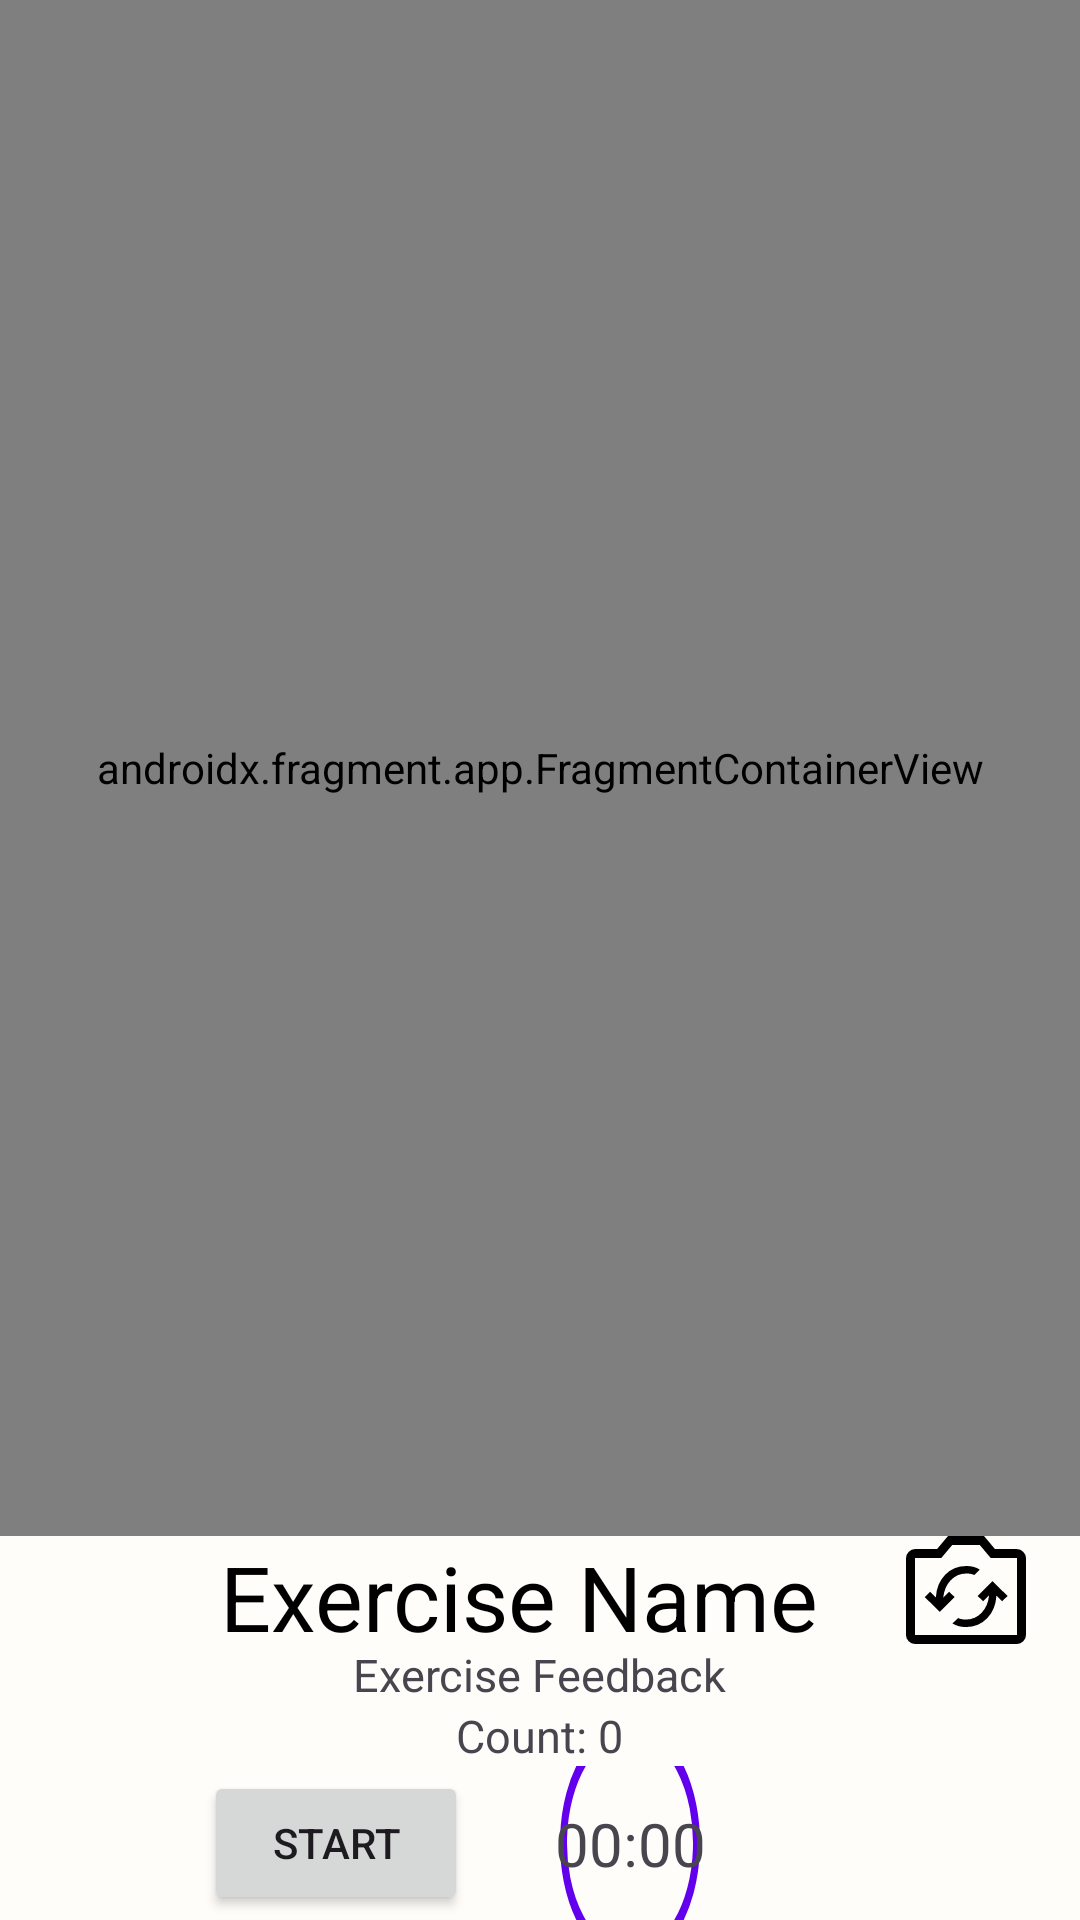

Where icons sit on this 1080 x 1920 app screen, as (x1, y1, x2, y2):
camera flip: (906, 1536, 1026, 1644)
